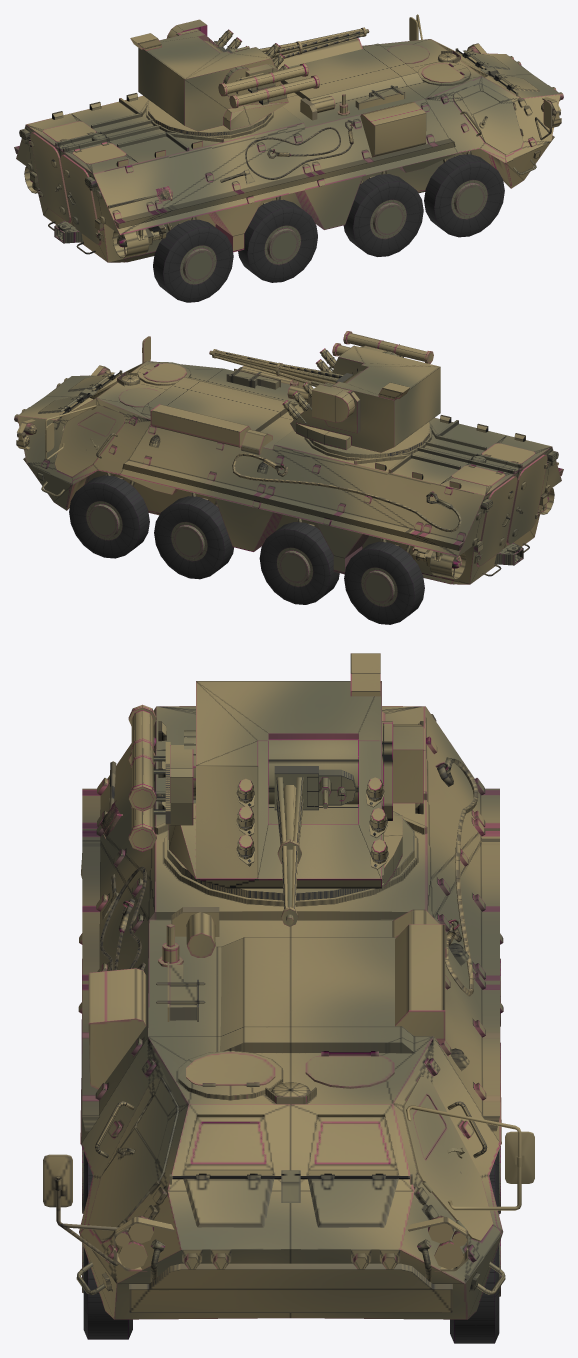
File: btr4mv.glb
3 views of the same model, one above another, from view 1: azimuth 30°, elevation 25°; view 2: azimuth 150°, elevation 25°; view 3: azimuth 270°, elevation 25° (orthographic). The views are drawn at different scales.
Visible parts, largest first — view 1: hull, hull3, turret, rear, tire, tire7, tire3, tire5, hatch6, hatch7, hatch8, wheel7 (+12 smaller); view 2: hull, rear, turret, hull3, tire2, tire8, tire4, tire6, hatch5, hatch8, hatch7, mount (+11 smaller); view 3: hull, rear, turret, hull3, hatch5, mount, hatch6, glass hull, mount2, lens, hatch2, hatch (+7 smaller).
Part boxes in pixels (left/top/right/bottom): hull: left=16, top=39, right=563, bottom=262; hull3: left=55, top=50, right=481, bottom=254; turret: left=130, top=19, right=288, bottom=136; rear: left=14, top=38, right=554, bottom=258; tire: left=424, top=154, right=504, bottom=237; tire7: left=153, top=219, right=233, bottom=302; tire3: left=343, top=174, right=423, bottom=256; tire5: left=238, top=199, right=317, bottom=282; hatch6: left=453, top=83, right=523, bottom=154; hatch7: left=29, top=132, right=70, bottom=221; hatch8: left=60, top=154, right=100, bottom=244; wheel7: left=180, top=245, right=216, bottom=284; hull: left=14, top=336, right=561, bottom=584; rear: left=23, top=377, right=554, bottom=579; turret: left=284, top=345, right=440, bottom=458; hull3: left=117, top=362, right=563, bottom=552; tire2: left=69, top=475, right=149, bottom=558; tire8: left=344, top=541, right=424, bottom=624; tire4: left=154, top=496, right=233, bottom=579; tire6: left=259, top=522, right=339, bottom=604; hatch5: left=45, top=405, right=124, bottom=476; hatch8: left=507, top=454, right=548, bottom=544; hatch7: left=477, top=476, right=517, bottom=565; mount: left=212, top=349, right=362, bottom=386; hull: left=43, top=706, right=505, bottom=1319; rear: left=81, top=714, right=503, bottom=1312; turret: left=167, top=653, right=423, bottom=900; hull3: left=78, top=721, right=418, bottom=1157; hatch5: left=403, top=1077, right=534, bottom=1241; mount: left=268, top=739, right=358, bottom=926; hatch6: left=88, top=1077, right=178, bottom=1241; glass hull: left=191, top=1123, right=390, bottom=1164; mount2: left=153, top=730, right=195, bottom=825; lens: left=115, top=1223, right=467, bottom=1269; hatch2: left=305, top=1051, right=394, bottom=1088; hatch: left=186, top=1052, right=275, bottom=1086.
Bounding box in the file's own units: 7.67 × 3.19 × 3.39.
6 materials, 6 textured.
